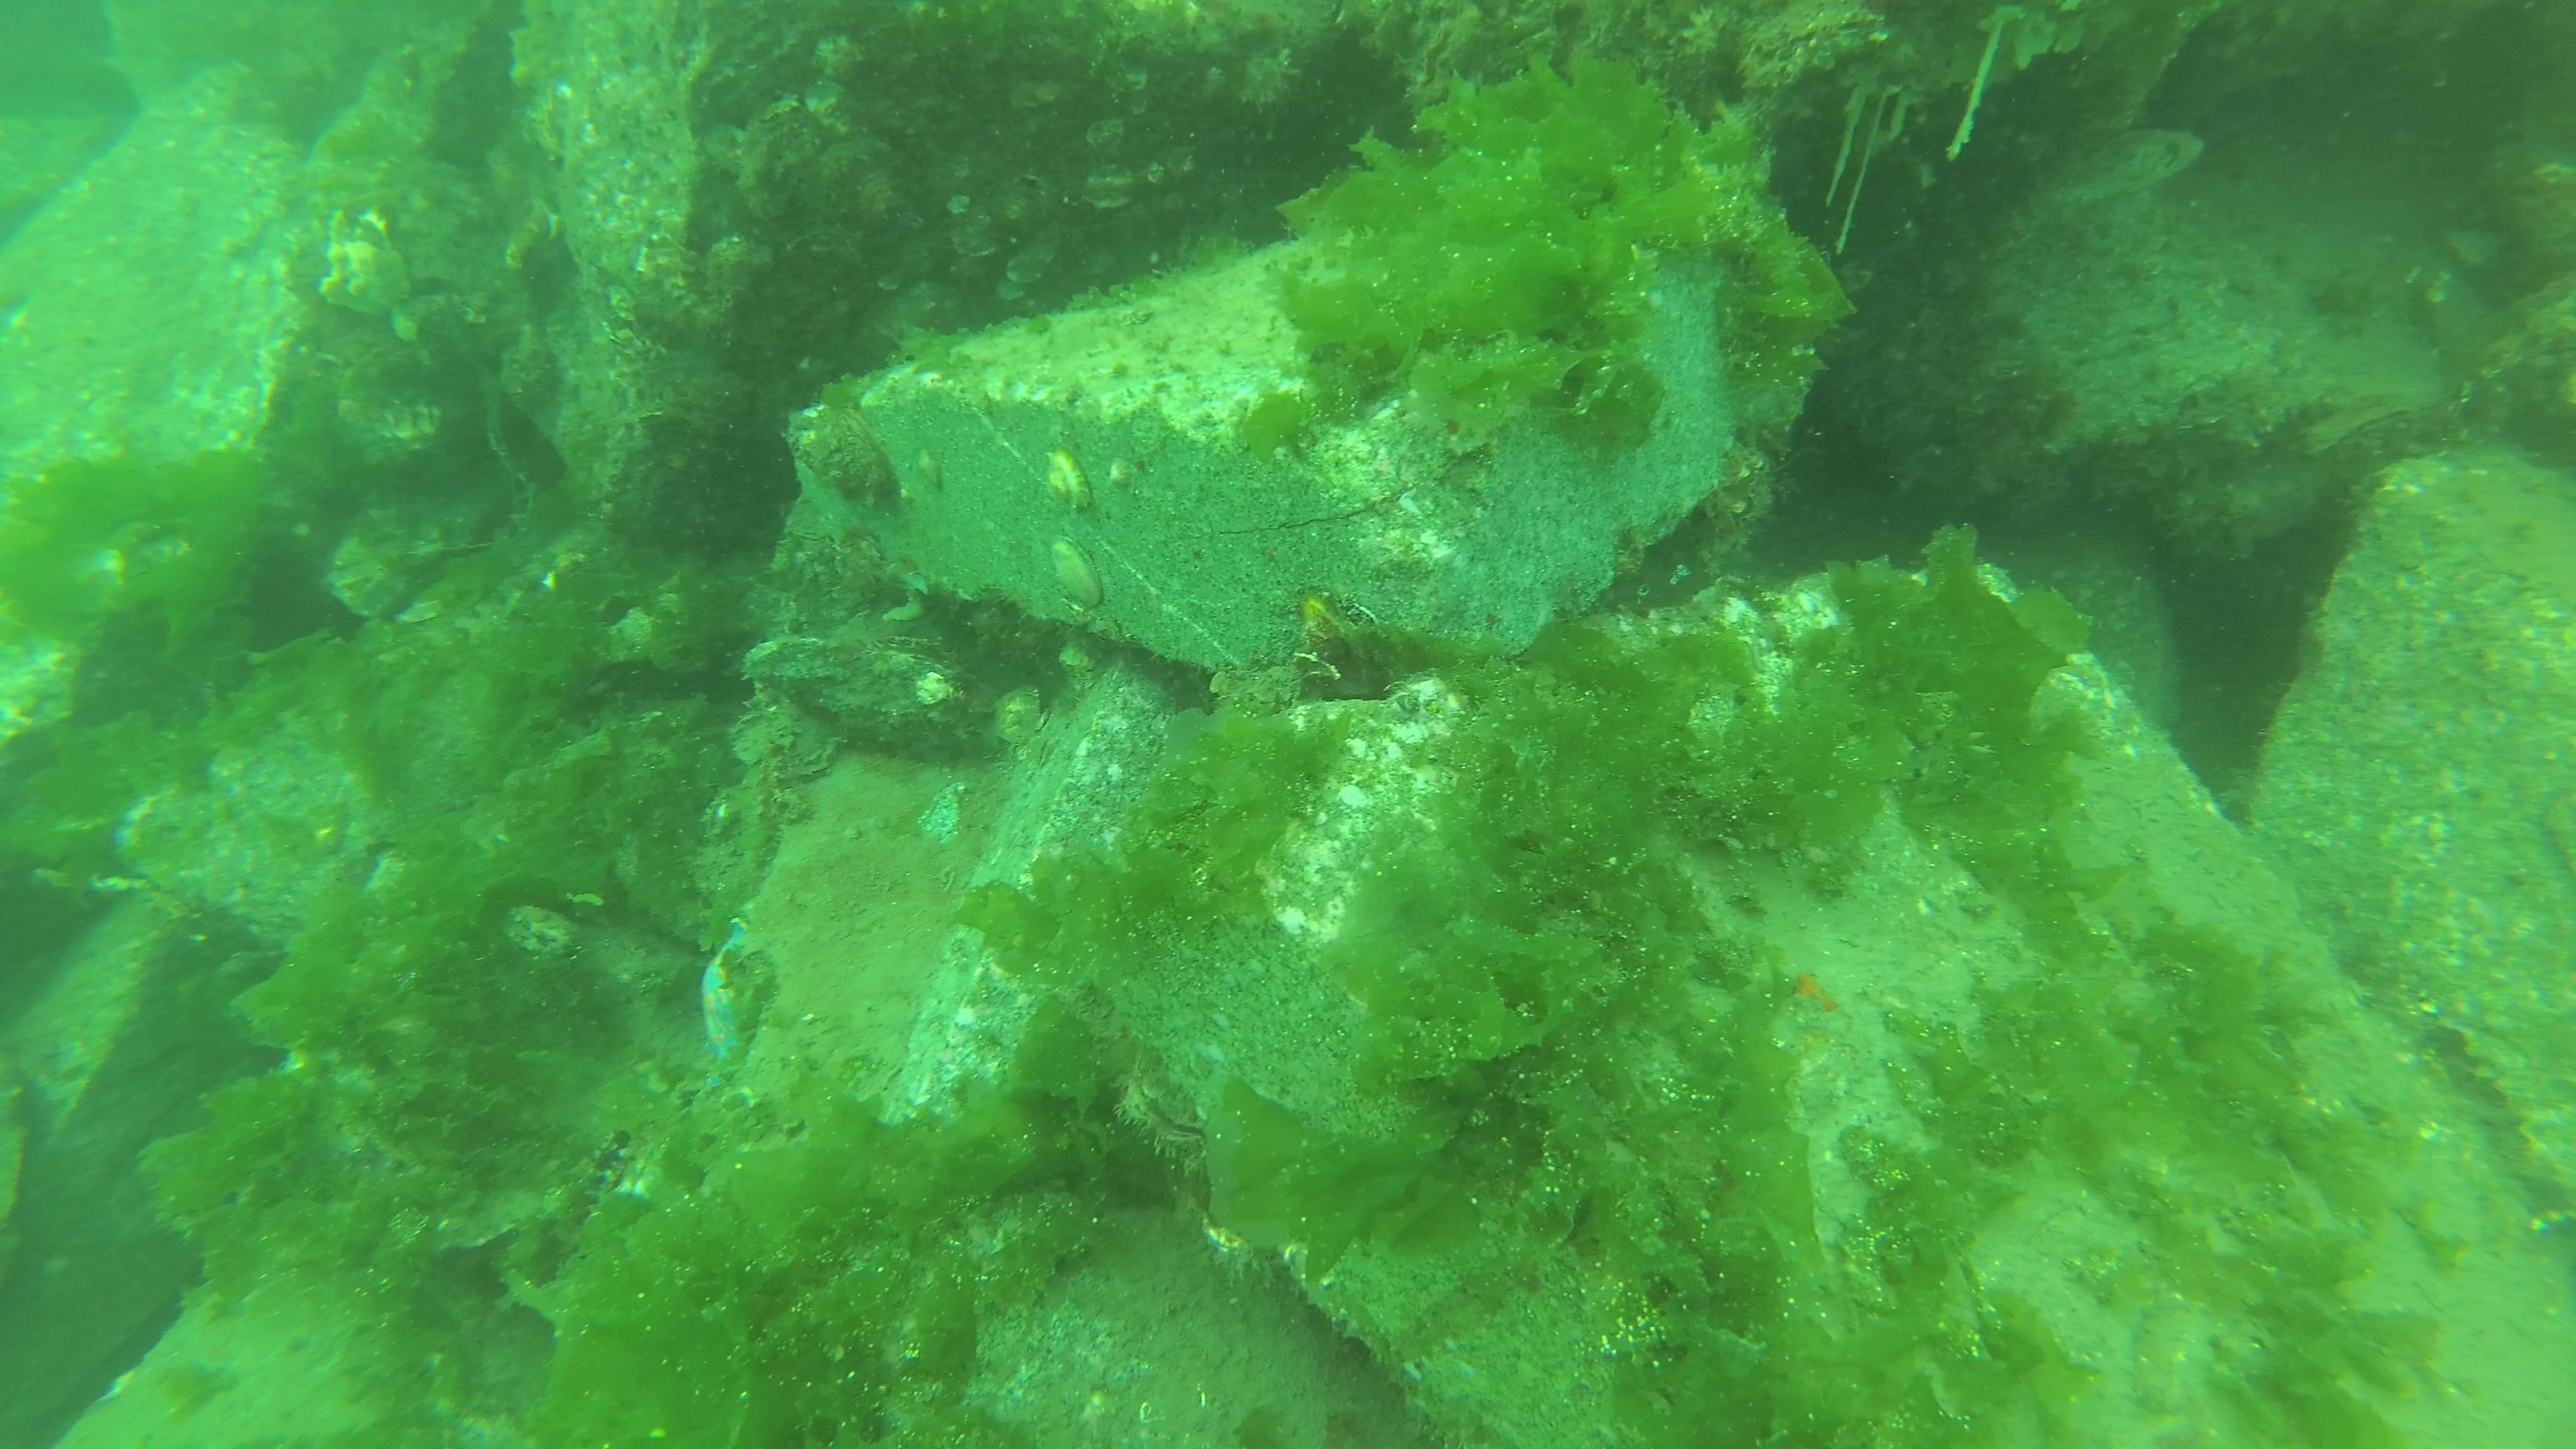starfish: (695, 913, 757, 1095)
